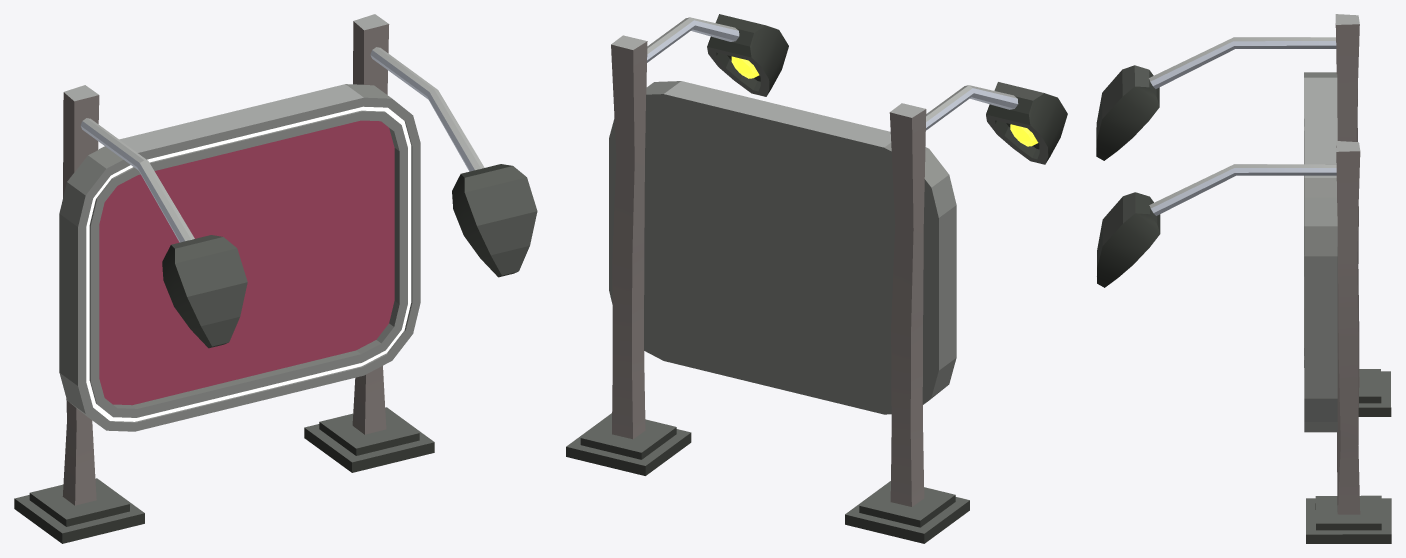
File: SignD.glb
The picture shows the model from 3 angles, left to right: view 1: azimuth 30°, elevation 25°; view 2: azimuth 150°, elevation 25°; view 3: azimuth 270°, elevation 25°; orthographic projection. The views are drawn at different scales.
Visible parts, largest first — view 1: Road_Display_Pink; view 2: Road_Display_Pink; view 3: Road_Display_Pink.
Boxes of the visible parts, x1=… form: Road_Display_Pink: x1=14, y1=14, x2=537, y2=543; Road_Display_Pink: x1=566, y1=14, x2=1067, y2=543; Road_Display_Pink: x1=1096, y1=14, x2=1391, y2=543.
Size of what is drawn, in the model's own units: 2.3 by 2.5 by 1.76.
1 material, 1 textured.
